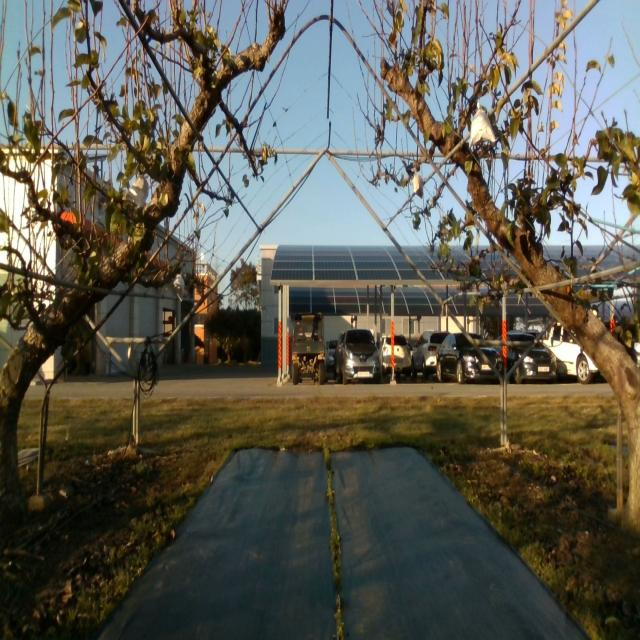pearbags: (469, 102, 496, 148), (126, 172, 148, 208), (412, 168, 423, 198), (173, 273, 184, 302)
